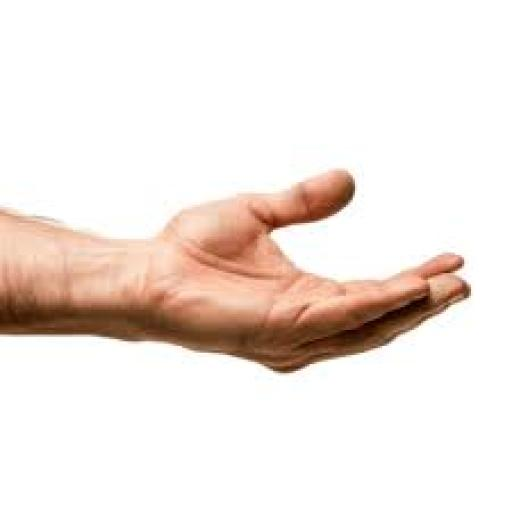Open_Palm: (89, 91, 504, 423)
